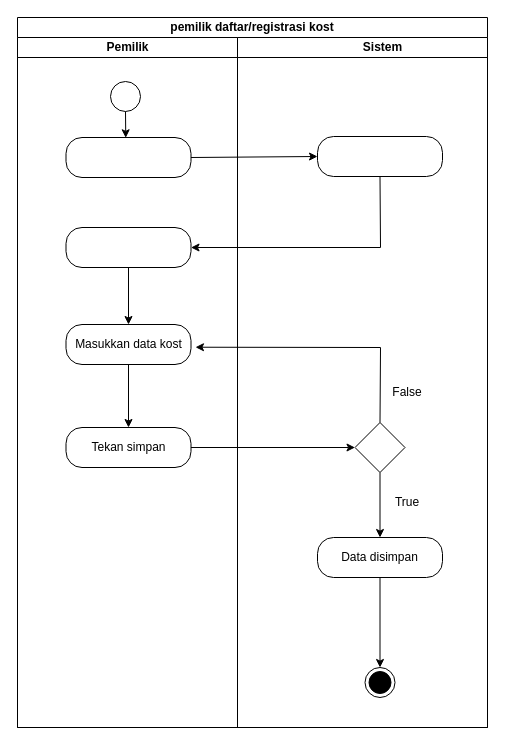
Image size: 505x745. Some labels were removed from this diagram. The centre of each missing label's shape, as x and y in pixels:
Menampilkan halaman daftar/registrasi kost: the point at 379,156
Pilih menu daftarkan kost: the point at 128,157
pilih tambah data: the point at 128,247
